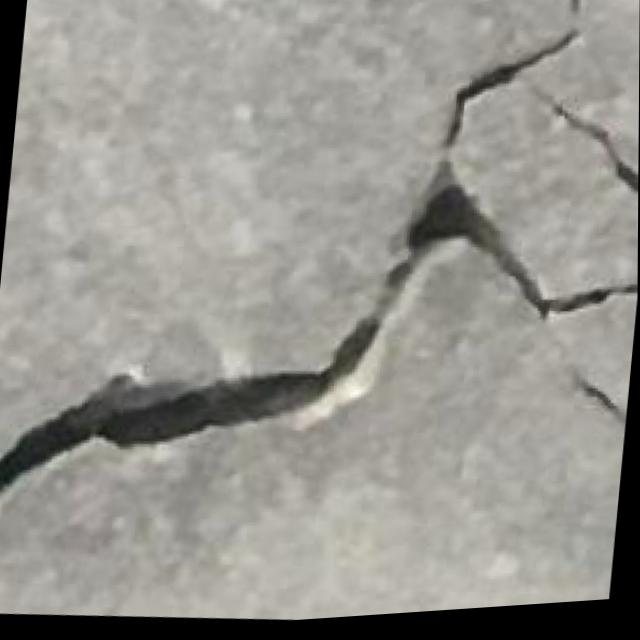Crack: (0, 0, 640, 566)
